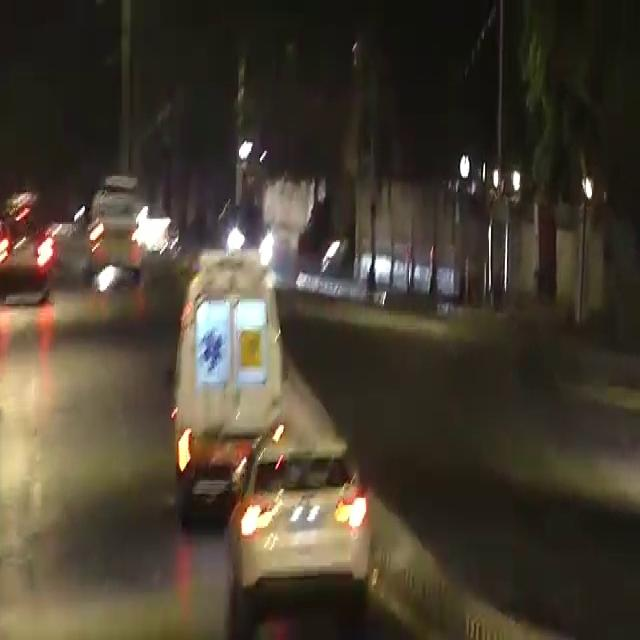ambulance: (168, 249, 298, 468)
